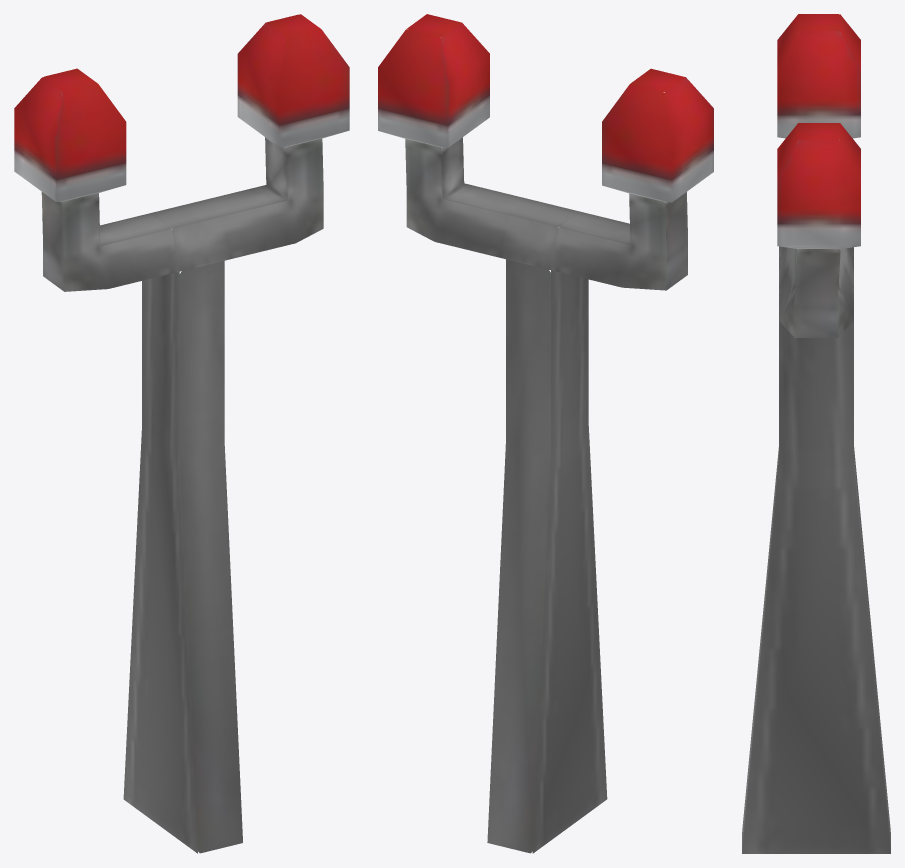
File: Part - Detail 06-CpiAuAP7.glb
3 views of the same model, side by side, from view 1: azimuth 30°, elevation 25°; view 2: azimuth 150°, elevation 25°; view 3: azimuth 270°, elevation 25° (orthographic).
Visible parts, largest first — view 1: Detail_06; view 2: Detail_06; view 3: Detail_06.
Boxes of the visible parts, x1=… form: Detail_06: x1=14, y1=14, x2=349, y2=853; Detail_06: x1=378, y1=14, x2=713, y2=853; Detail_06: x1=742, y1=14, x2=890, y2=853.
Bounding box in the file's own units: 0.3388 × 0.8465 × 0.149.
1 material, 1 textured.
